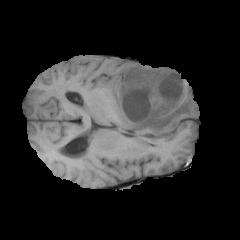glioma: (111, 66, 197, 137)
